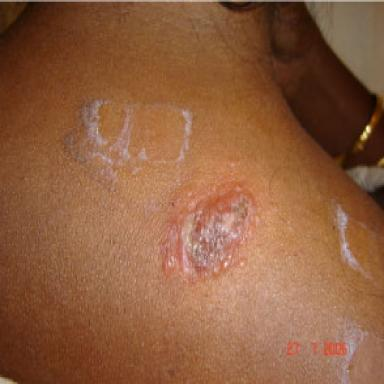Leishmanios: (161, 183, 256, 281)
